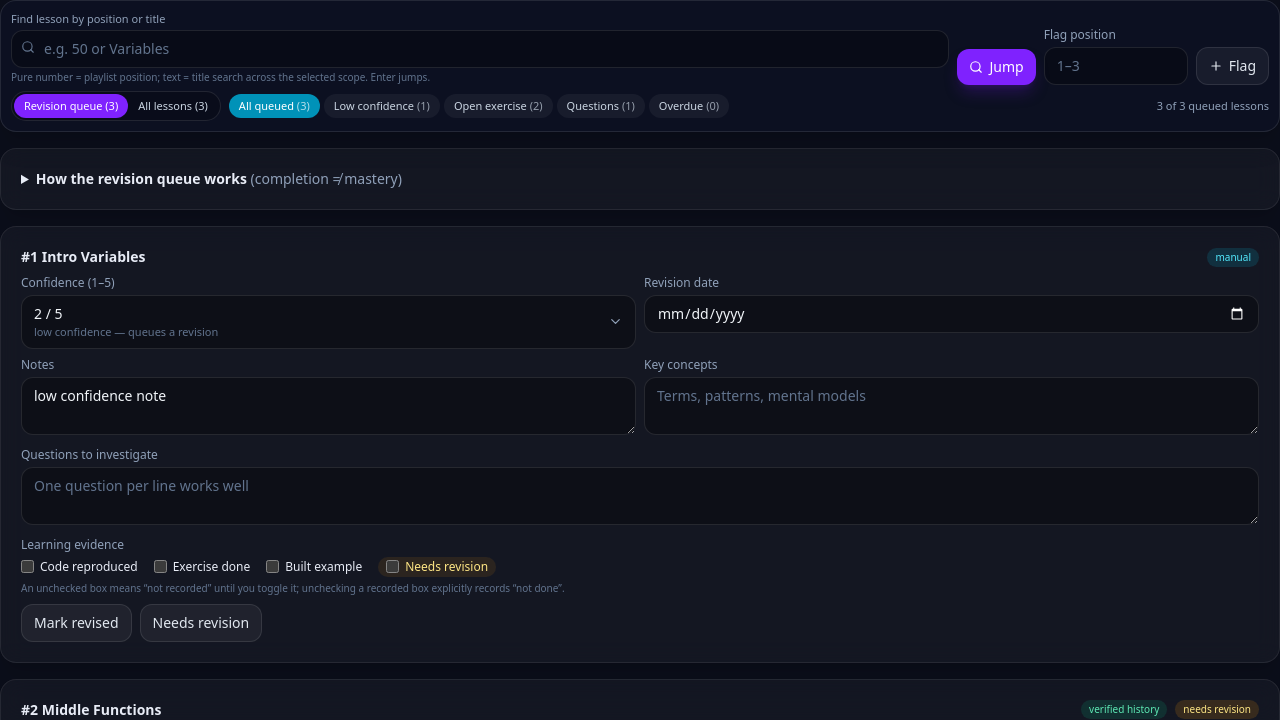
Scenario: Revision sticky toolbar, search, jump, and filters › filters accurately, reports counts, and clears a hiding filter when jumping
Expected: the text "3 of 3 queued lessons" is shown, [1157,98,1269,114]
Click the button "Low confidence (1)": [382, 106] box [324,94,440,118]
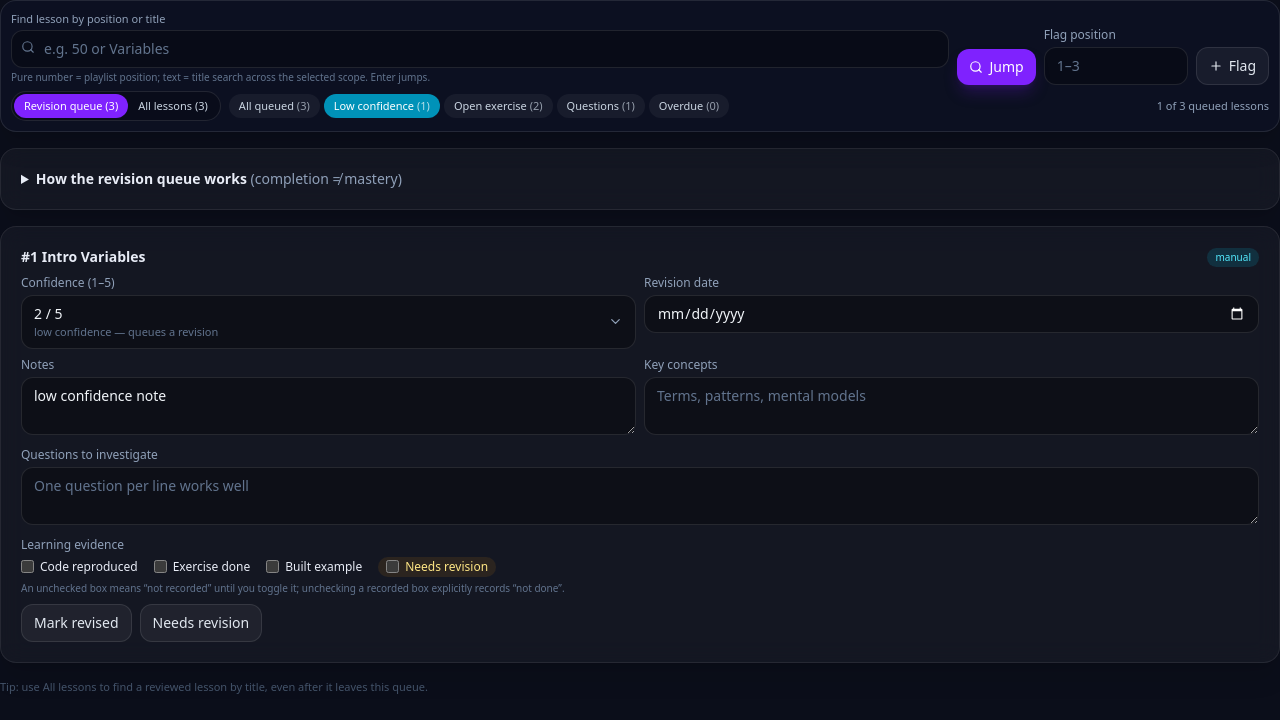
Result: the text "1 of 3 queued lessons" is shown at [1157,98,1269,114]
In the field labelled "Find lesson by position or title": [480, 48] box [11,30,950,68], type "2"
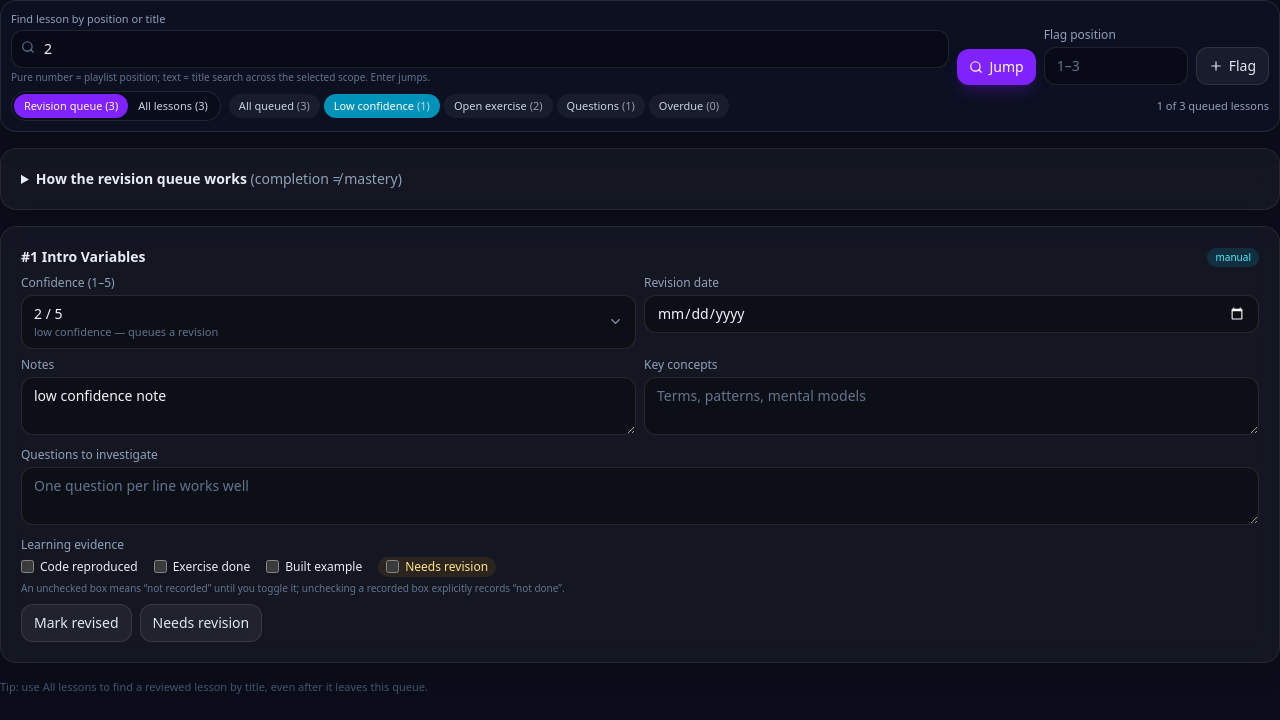
Press Enter in the field labelled "Find lesson by position or title", box [11,30,950,68]
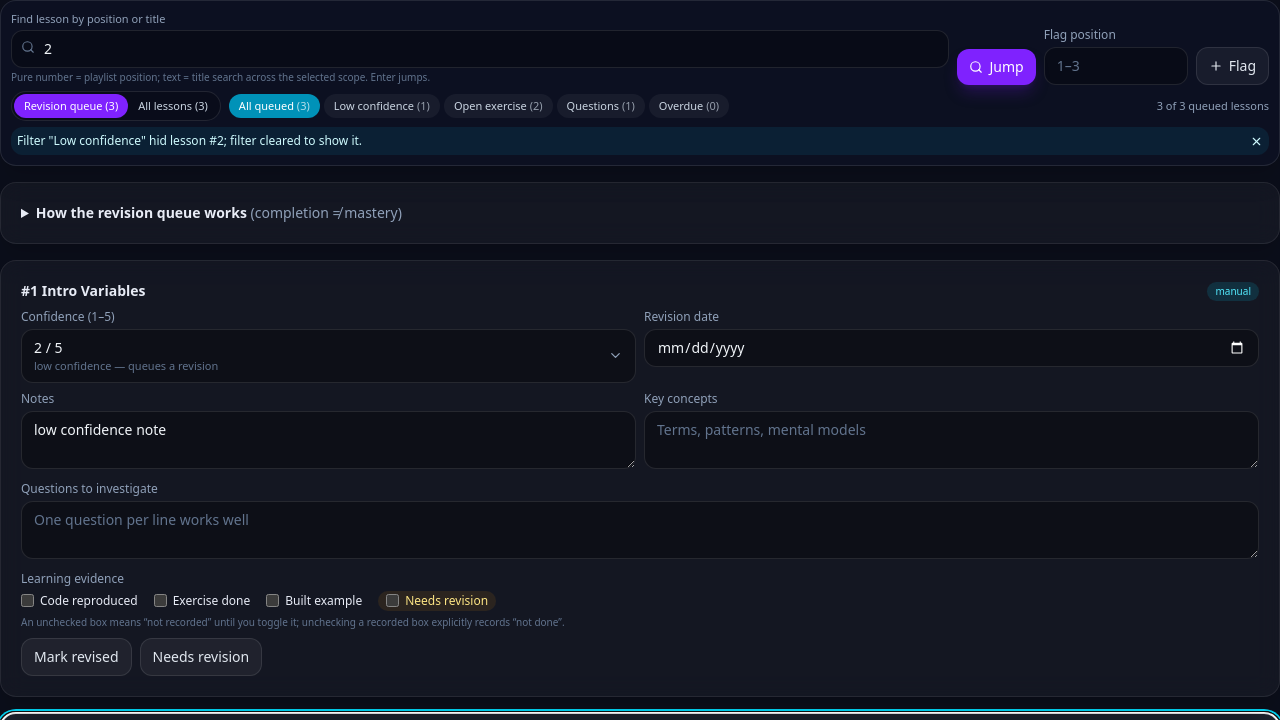
Result: the text "hid lesson #2; filter cleared" is shown at [17,132,362,149]
Result: the text "3 of 3 queued lessons" is shown at [1157,98,1269,114]
